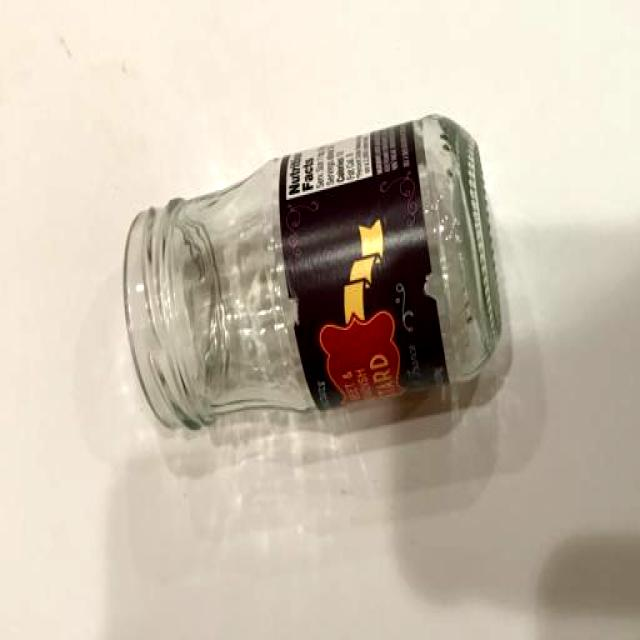Glass: (127, 109, 513, 444)
